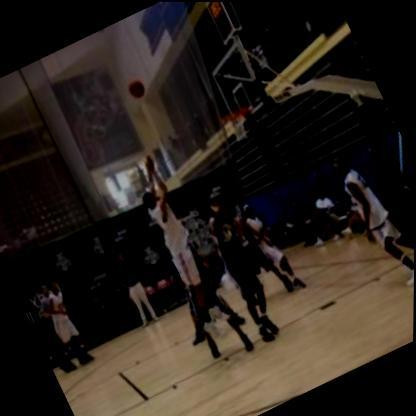basketball: (121, 72, 153, 104)
